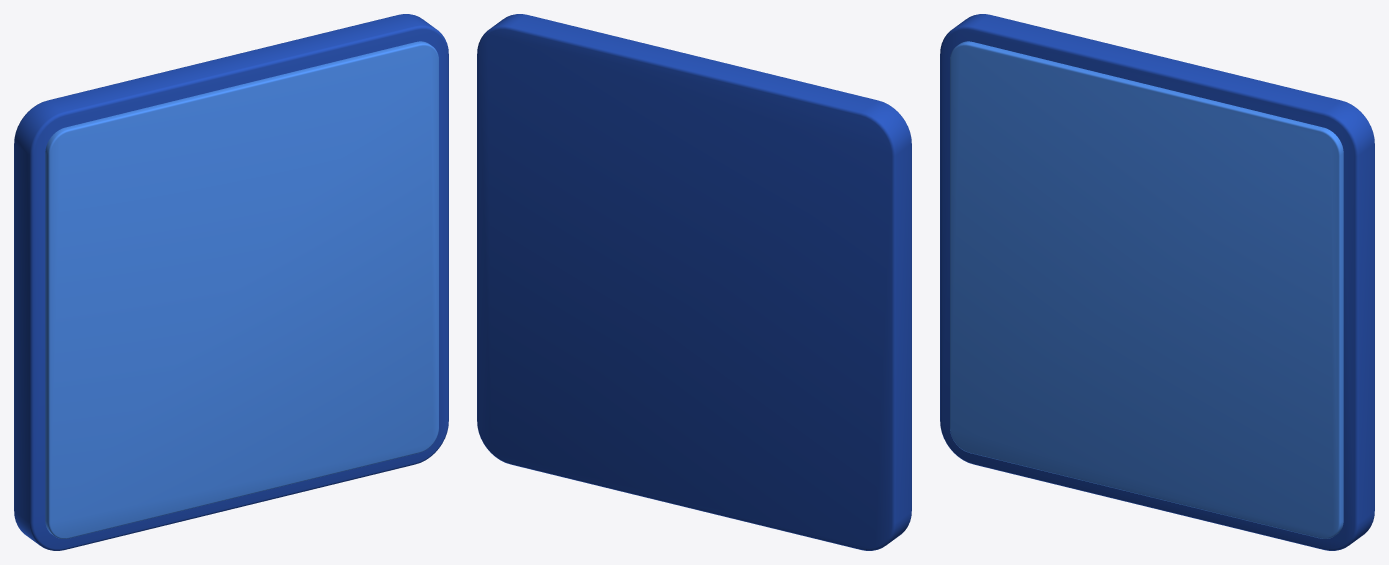
File: panel-cuadrado-azul.glb
3 renders of one model, left to right at view 1: azimuth 30°, elevation 25°; view 2: azimuth 150°, elevation 25°; view 3: azimuth 330°, elevation 25°, orthographic.
Parts seen in each view (by area): view 1: placa, borde; view 2: borde; view 3: placa, borde.
Boxes of the visible parts, <box> form: placa: <box>45,41,438,538</box>; borde: <box>14,14,448,550</box>; borde: <box>477,14,911,550</box>; placa: <box>950,41,1343,538</box>; borde: <box>940,14,1374,550</box>.
Bounding box in the file's own units: 2.1 × 2.1 × 0.192.
